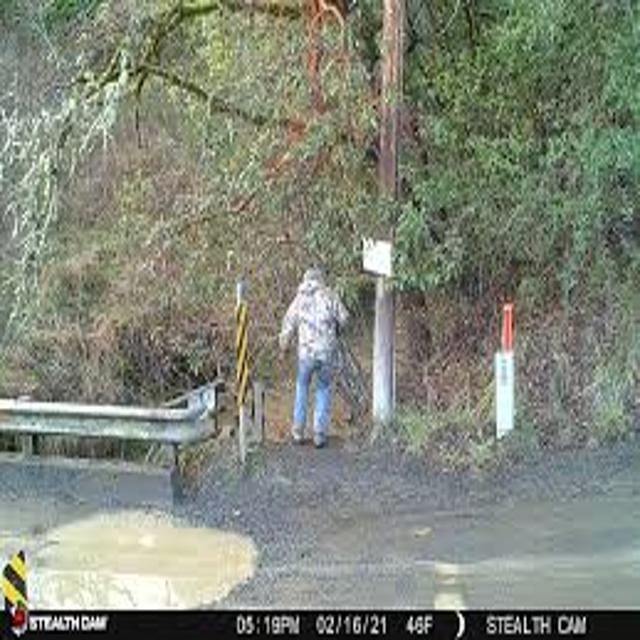poacher: (242, 221, 393, 467)
